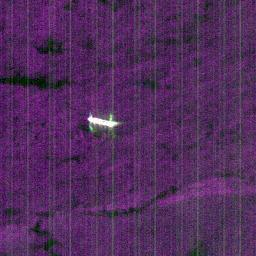Ship: (86, 109, 120, 134)
